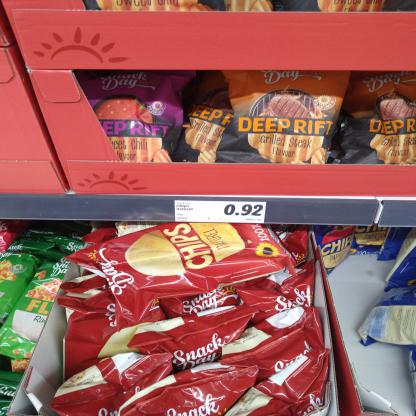prtg: (176, 201, 267, 224)
